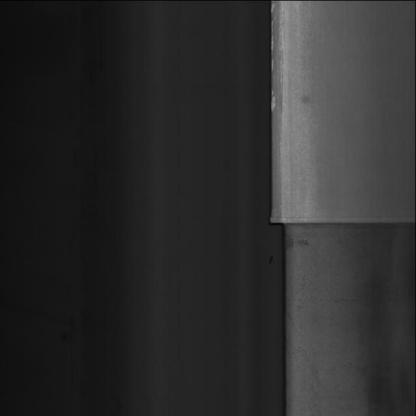welding_line: (270, 208, 416, 234)
